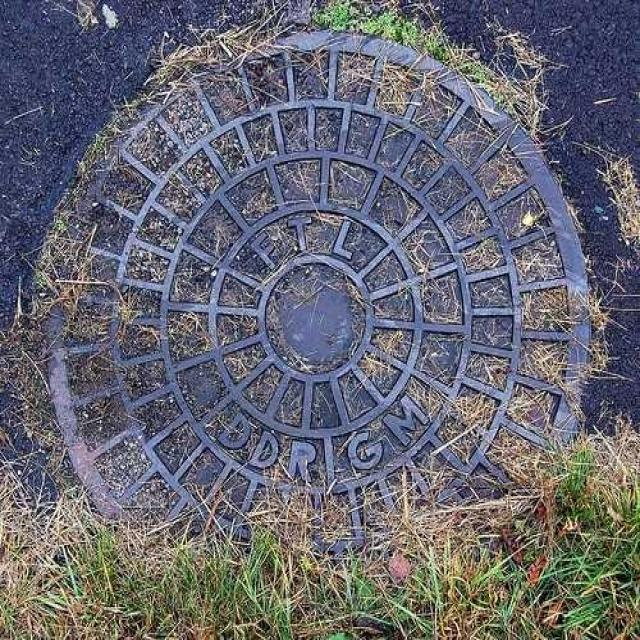manhole: (46, 31, 590, 550)
